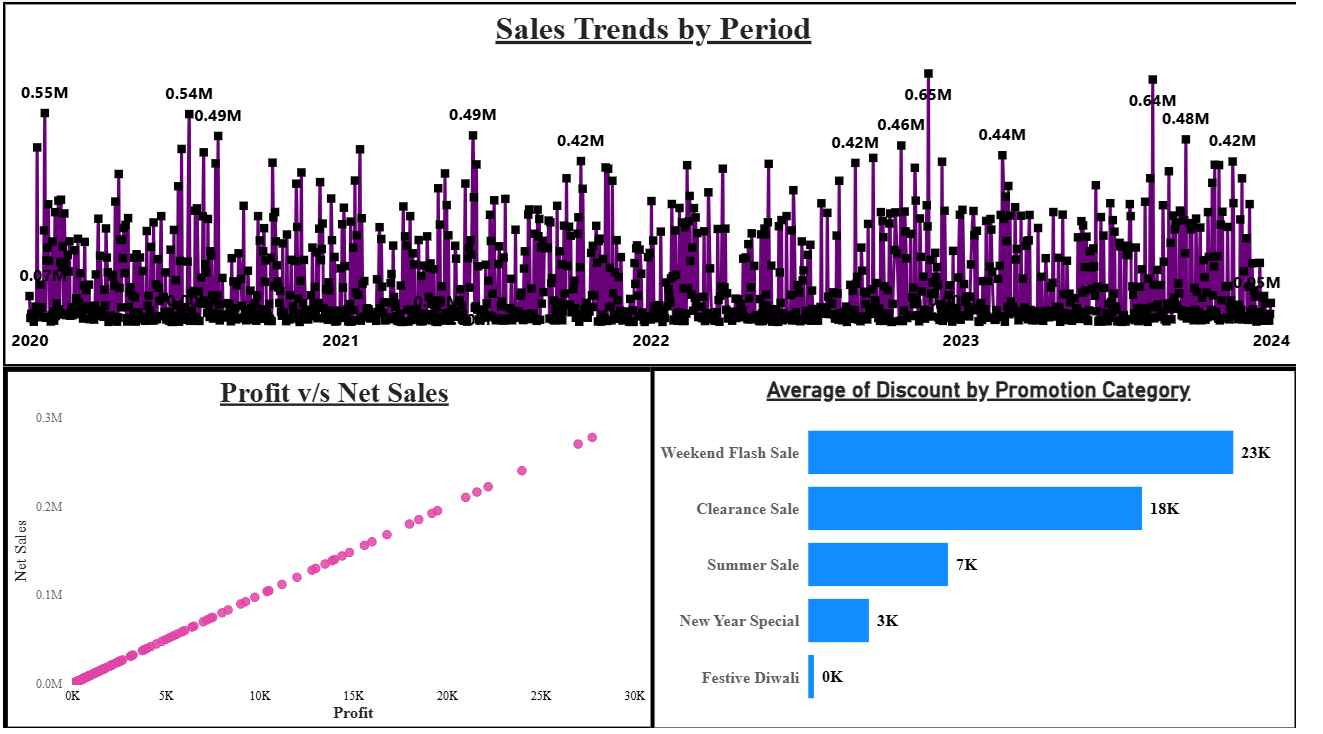

Layout of this report page (visuals, bound fields, positions):
{"tool":"powerbi","page":{"name":"Overview-1","canvas":[1280,720],"ordinal":1},"visuals":[{"type":"lineChart","title":"Sales Trends by Period","fields":{"Category":["Fact Table.Date (dd/mm/yyyy).Variation.Date Hierarchy.Year"],"Y":["Sum(Fact Table.Net Sales)"]},"box":[0,0,1280,360],"z":0},{"type":"scatterChart","title":"Profit v/s Net Sales","fields":{"X":["Fact Table.Profit"],"Y":["Fact Table.Net Sales"]},"box":[0,360,645,360],"z":1000},{"type":"barChart","title":"Average of Discount by Promotion Category","fields":{"Y":["Avg(Fact Table.Discount Value)"],"Category":["Dim Promotion.Promotion Name"]},"box":[640,360,640,360],"z":2000}]}

Visuals, with their boxes in screenshot pixels (x1, y1, x2, y2), scaled from the page's 1280x720 canvas onto the 1323x734 screenshot:
"Sales Trends by Period" lineChart: {"x1": 0, "y1": 0, "x2": 1322, "y2": 367}
"Profit v/s Net Sales" scatterChart: {"x1": 0, "y1": 367, "x2": 667, "y2": 733}
"Average of Discount by Promotion Category" barChart: {"x1": 662, "y1": 367, "x2": 1322, "y2": 733}
